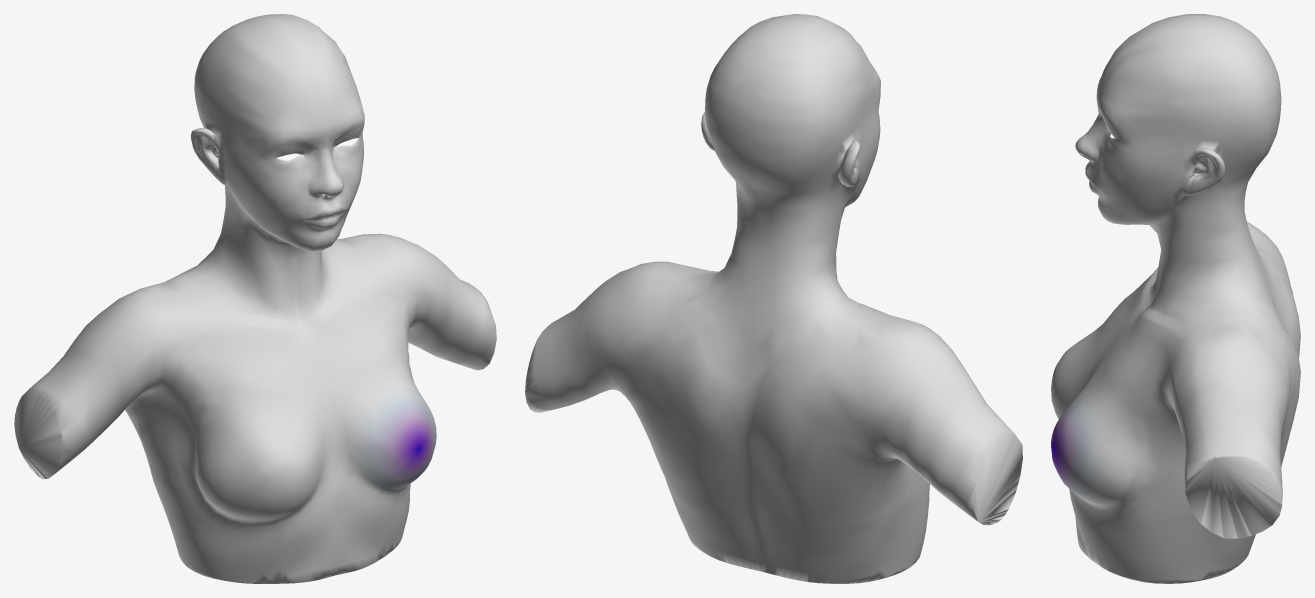
The picture shows the model from 3 angles, left to right: view 1: azimuth 30°, elevation 25°; view 2: azimuth 150°, elevation 25°; view 3: azimuth 270°, elevation 25°; orthographic projection. The views are drawn at different scales.
Visible parts, largest first — view 1: world; view 2: world; view 3: world.
Boxes of the visible parts, <box> form: world: <box>14,14,496,583</box>; world: <box>525,14,1022,583</box>; world: <box>1051,14,1300,583</box>.
Bounding box in the file's own units: 0.5286 × 0.594 × 0.2626.
